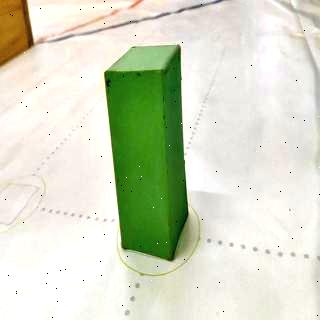greenbox: (103, 44, 191, 264)
